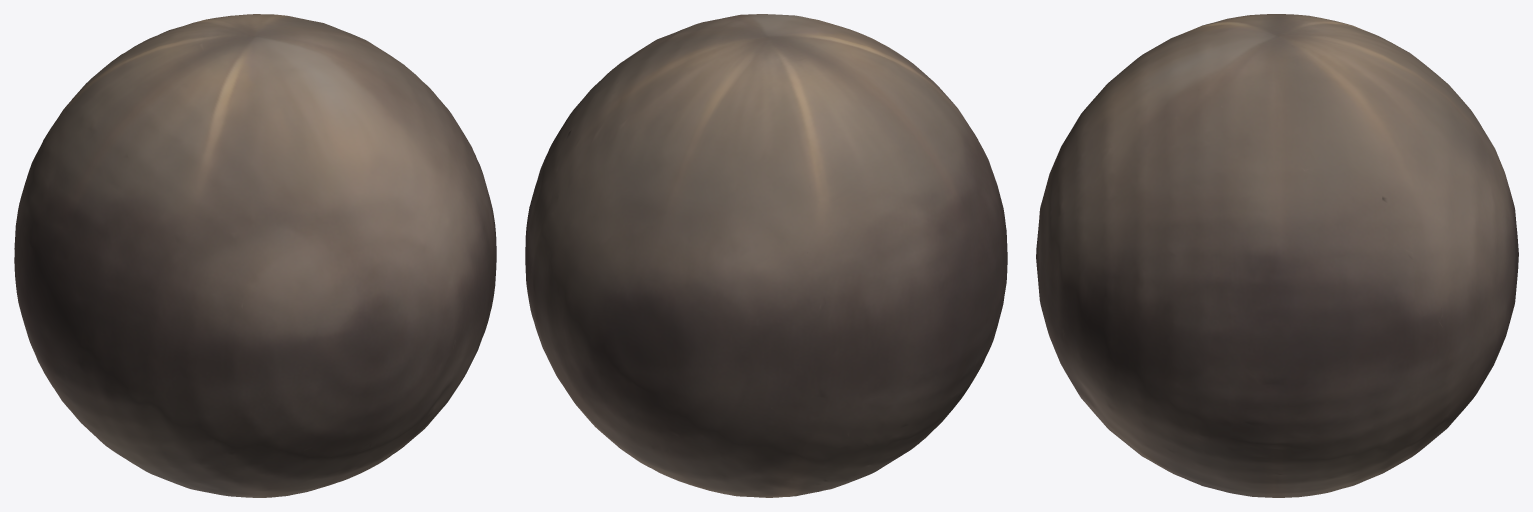
The model's file is base_basic_pbr (1).glb.
The picture shows the model from 3 angles, left to right: view 1: azimuth 30°, elevation 25°; view 2: azimuth 150°, elevation 25°; view 3: azimuth 270°, elevation 25°; orthographic projection.
Visible parts, largest first — view 1: model; view 2: model; view 3: model.
Boxes of the visible parts, x1,y1,x2,y2 form: model: (14,14,496,497); model: (525,14,1007,497); model: (1036,14,1518,497).
Bounding box in the file's own units: 1.9 × 1.9 × 1.9.
1 material, 1 textured.
